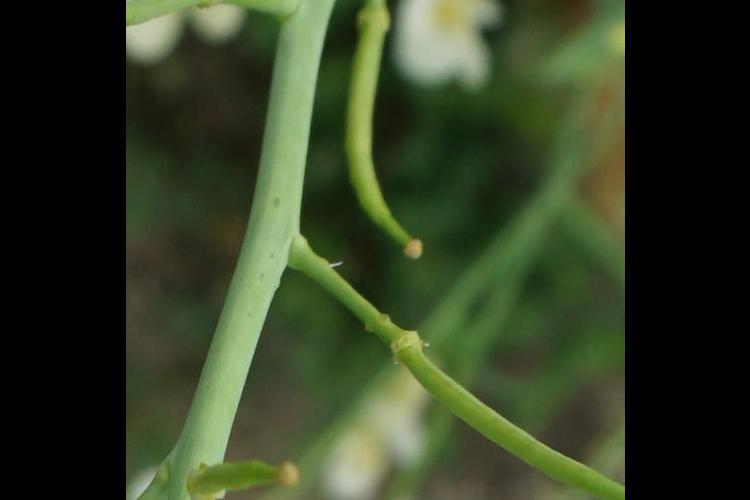pod: (336, 1, 435, 267), (177, 430, 320, 500)
